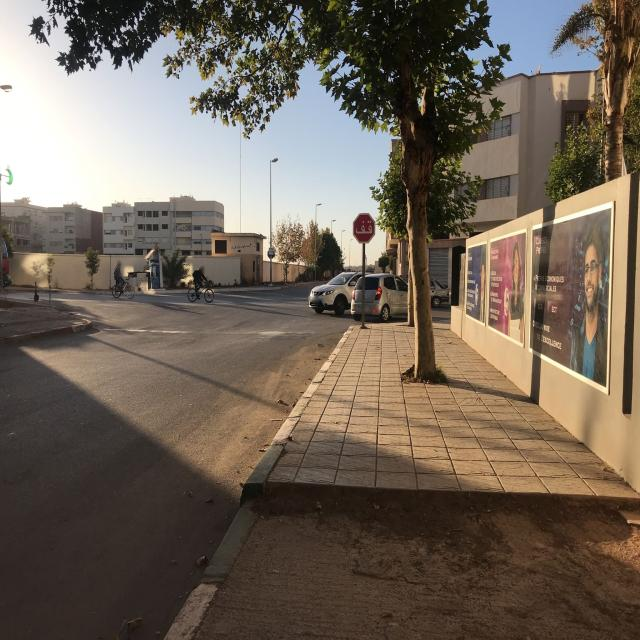bike: (188, 276, 215, 303)
car: (351, 273, 417, 322), (308, 272, 364, 316), (428, 276, 451, 307)
